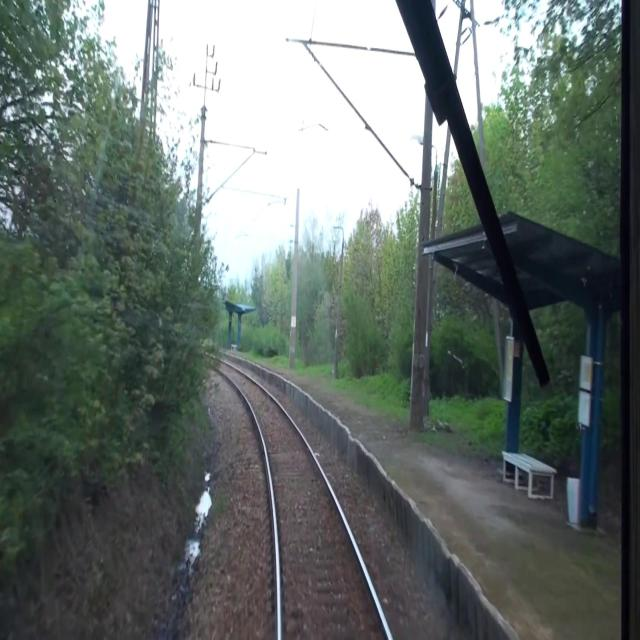rail-track: (204, 355, 386, 639)
